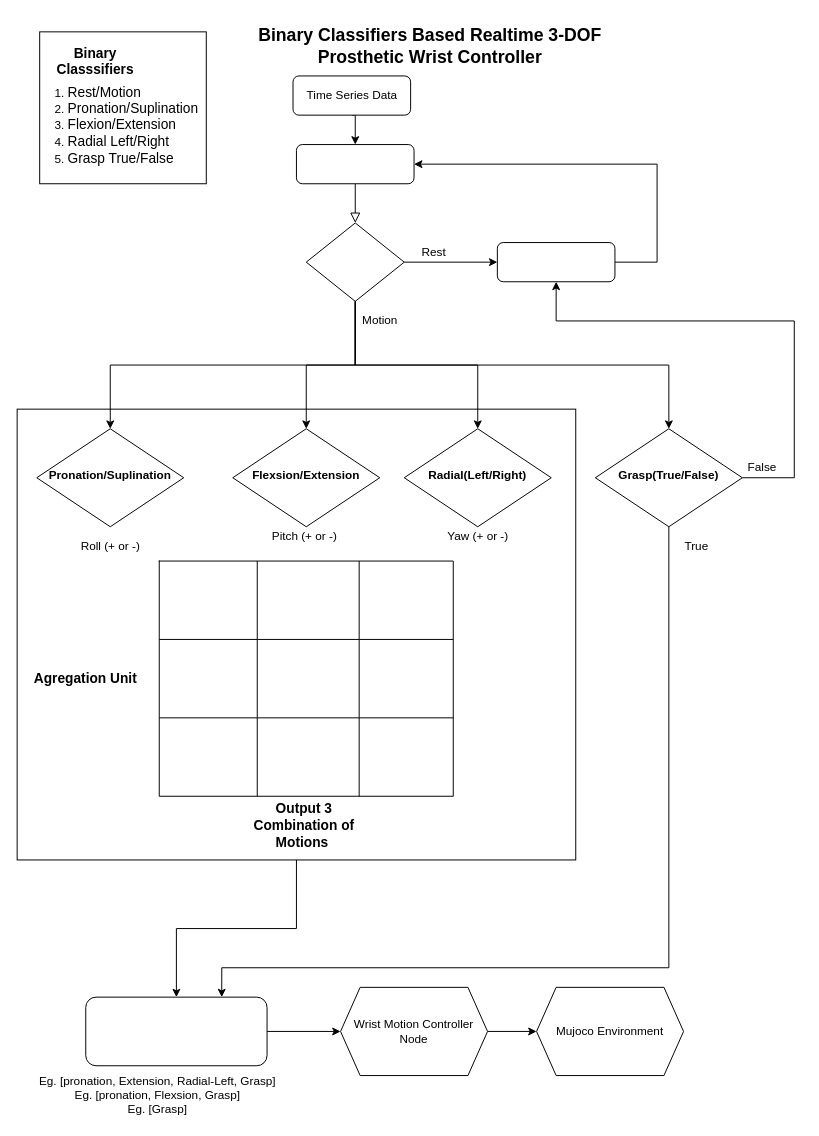
The diagram is 819 pixels wide and 1136 high, and some of its shapes have lost their labels. The shapes that lost their labels are listed below. From the top down, each one's centre as x and y in pixels, then its label:
the point at 354,164: Windowed_Data
the point at 354,261: Rest/Motion
the point at 555,262: Do Nothing
the point at 176,1031: Combined Motions Output
